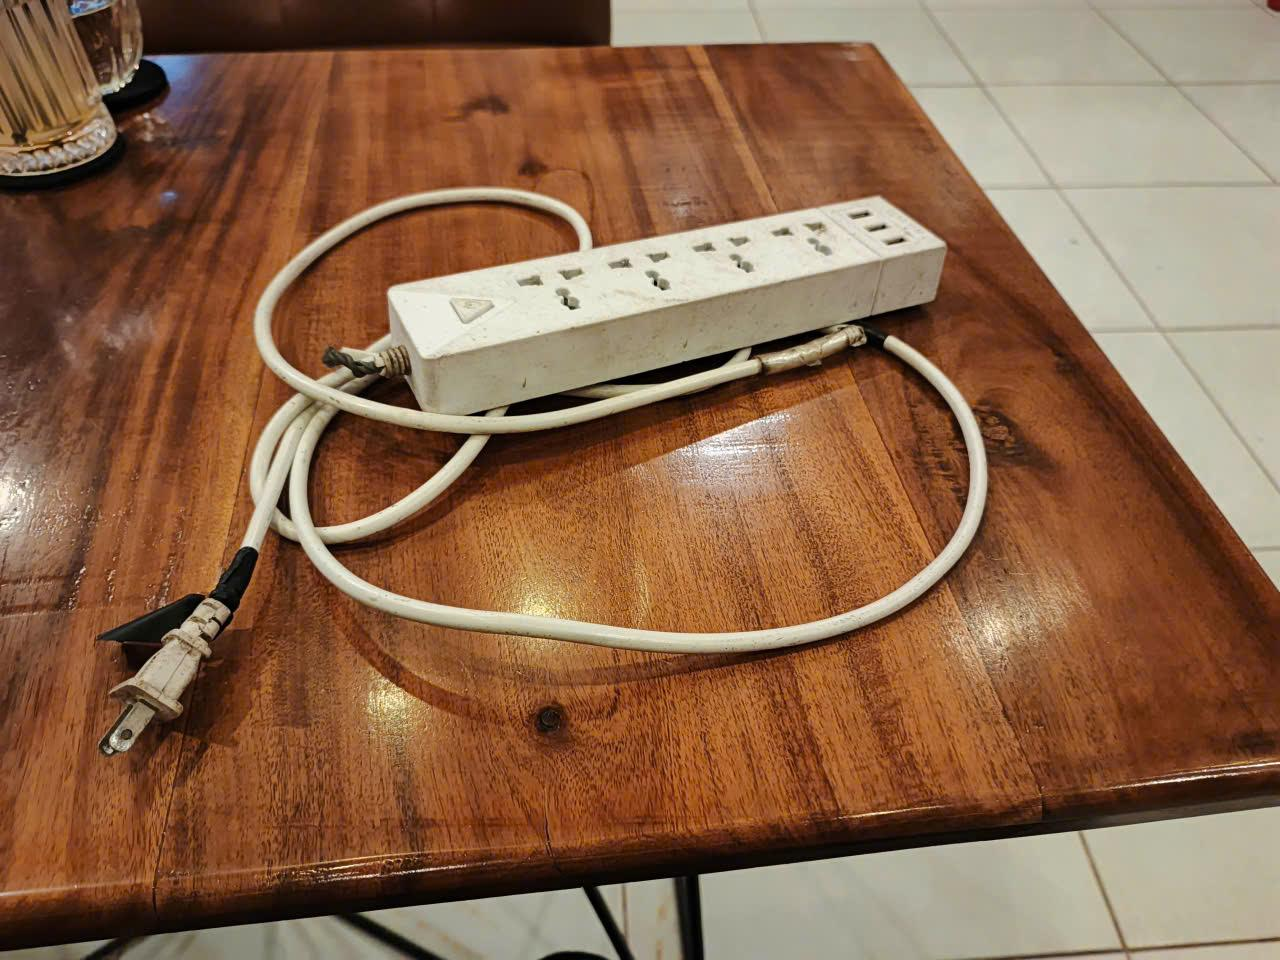Con lai: (94, 189, 984, 752)
